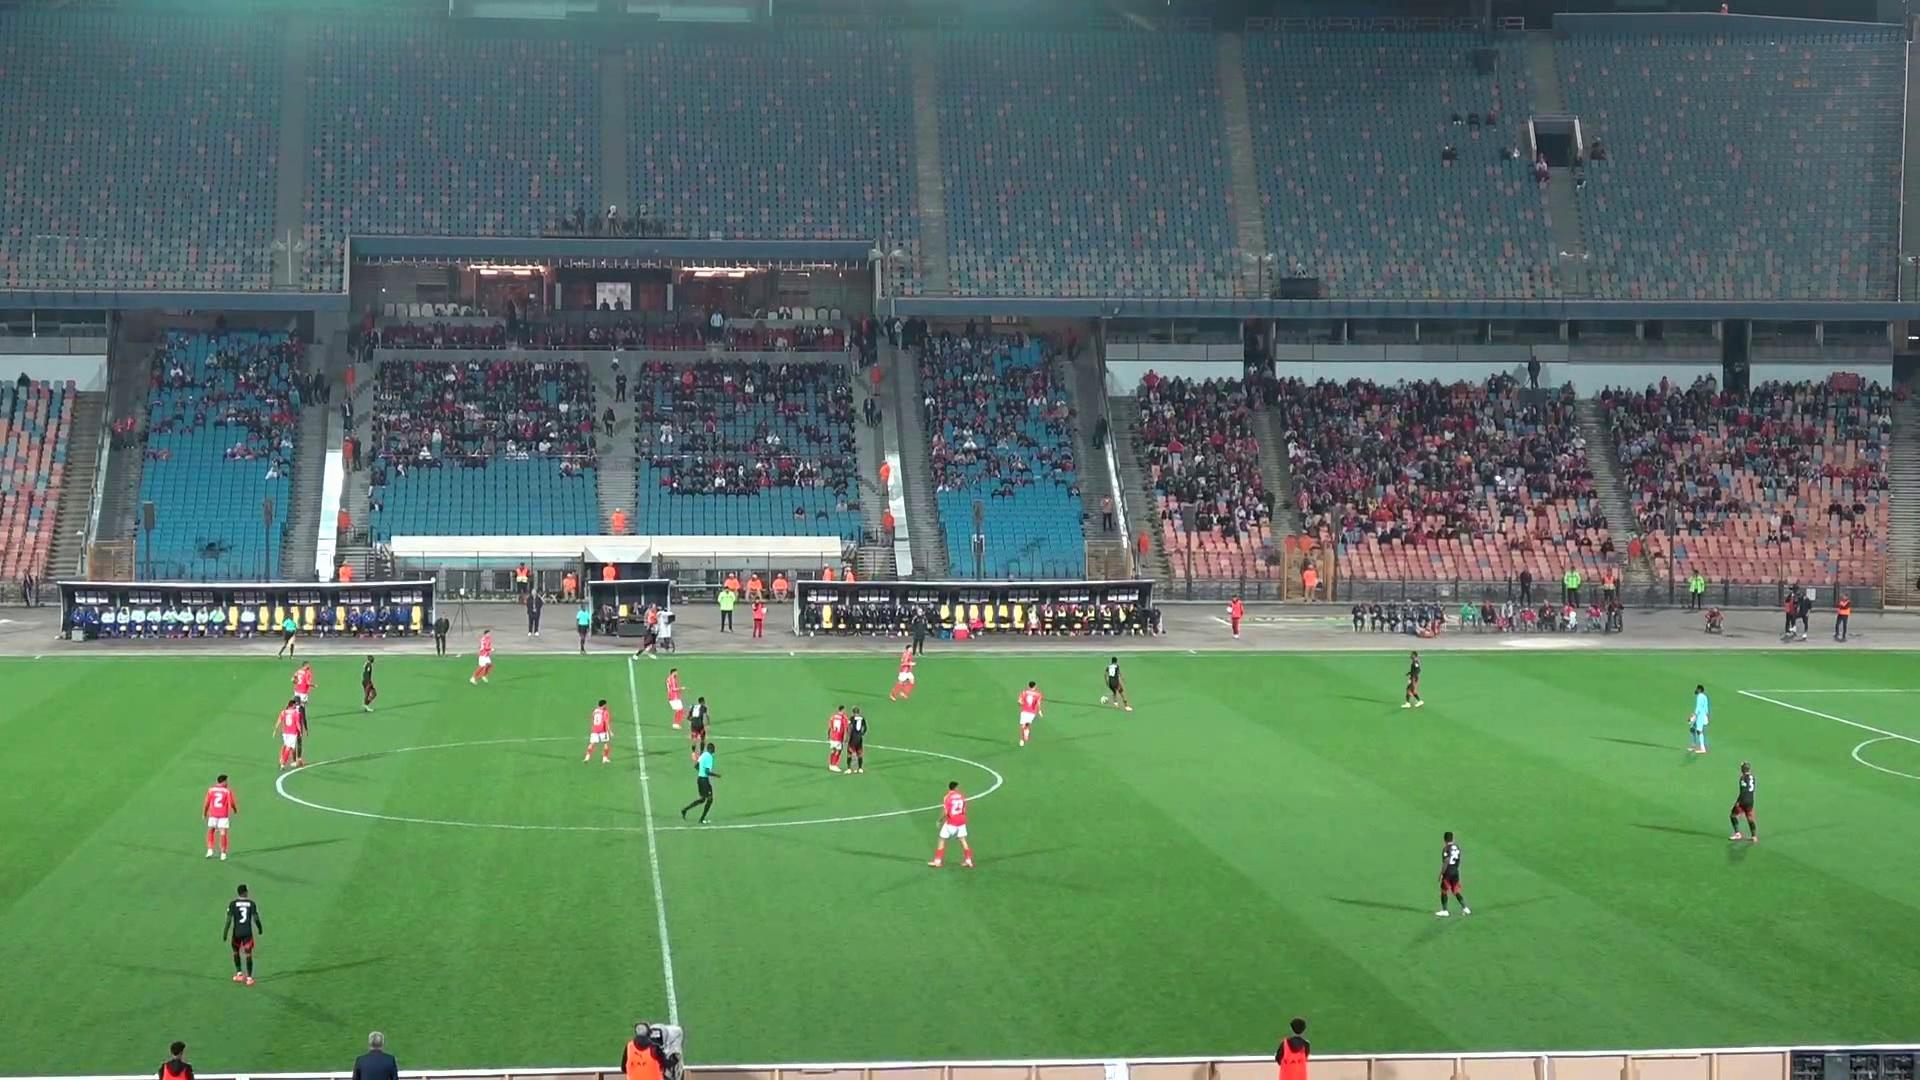Ball: (1098, 691, 1116, 708)
GK2: (1687, 683, 1712, 753)
Refree: (679, 742, 716, 823), (276, 607, 301, 655), (575, 600, 593, 654)
Team1: (928, 781, 975, 868), (203, 774, 236, 860), (276, 694, 307, 770), (584, 700, 612, 762), (1018, 680, 1043, 745), (828, 705, 851, 771), (889, 647, 916, 700), (469, 630, 493, 683), (666, 669, 686, 731), (293, 662, 314, 703)
Team2: (223, 885, 262, 984), (1436, 831, 1469, 915), (1729, 761, 1758, 841), (1098, 655, 1131, 709), (843, 707, 866, 771), (636, 604, 663, 655), (687, 696, 709, 753), (1402, 651, 1423, 705), (361, 655, 377, 711)
